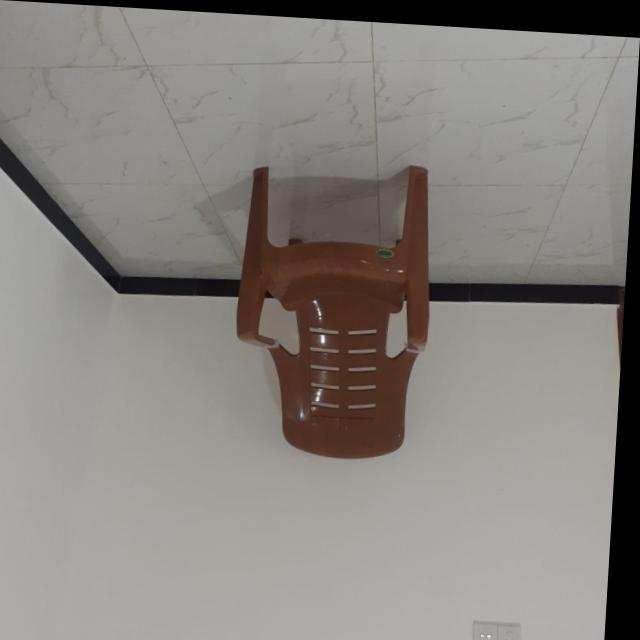Chair: (234, 151, 440, 459)
